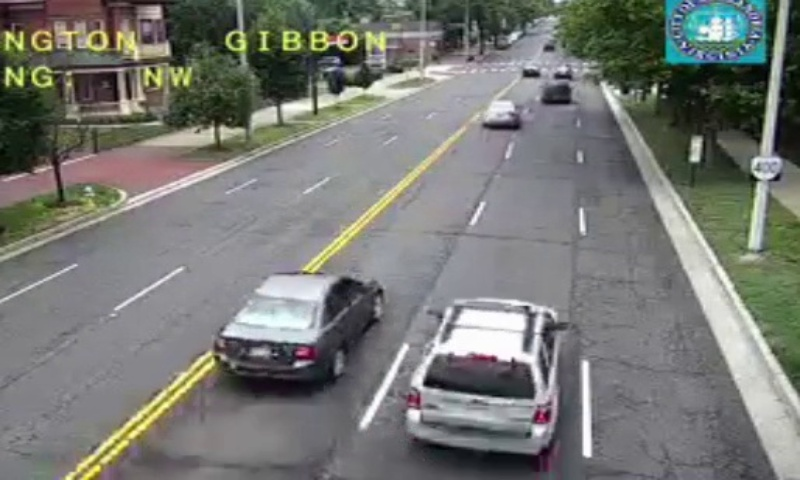car: (406, 297, 561, 456), (213, 271, 381, 381), (484, 101, 518, 126)
